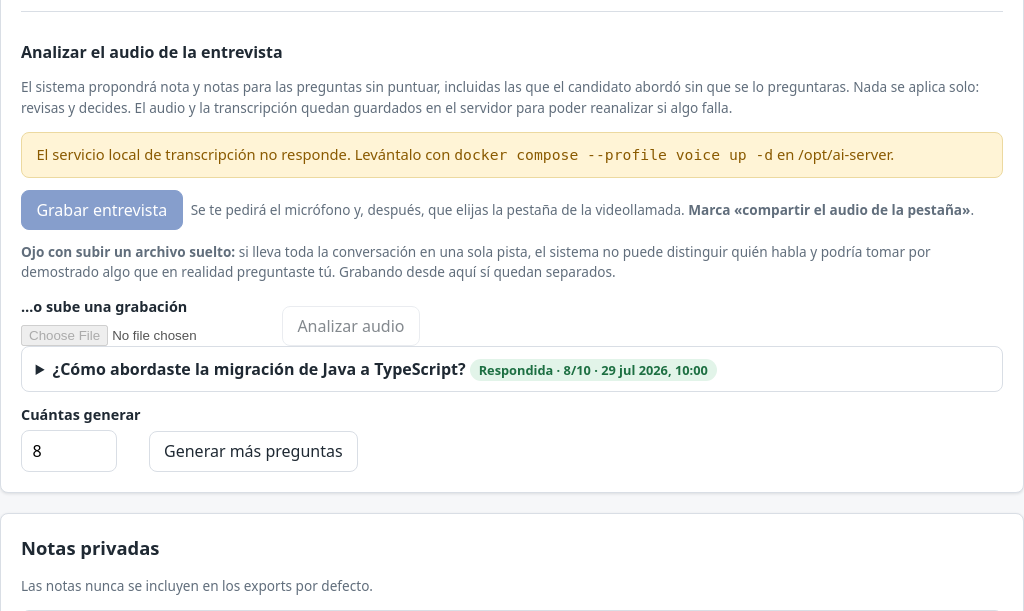
Test case: CandidateDetailPage · entrevista › borrar la nota envía { score: null }
(page scrolled)
Click the heading "¿Cómo abordaste la migración de Java a TypeScript?". click: point(385, 370)
box: [52, 358, 717, 381]
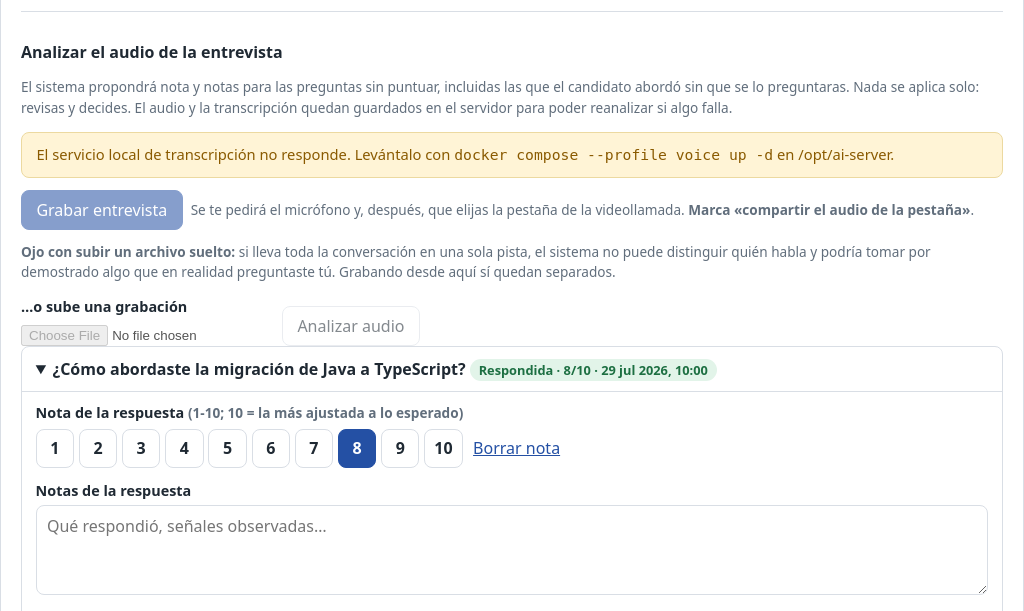
Expected: the text "¿Cómo abordaste la migración de Java a TypeScript?" is shown, [52, 358, 466, 380]
Click the button "Borrar nota". click: point(517, 448)
box: [468, 433, 566, 463]
(page scrolled)
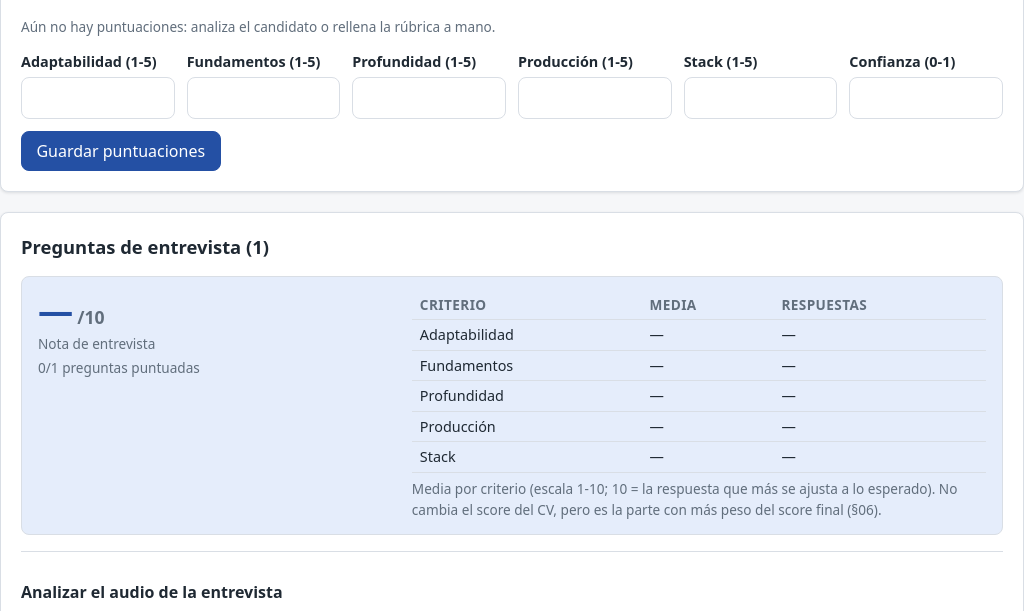
Expected: the text "0/1 preguntas puntuadas" is shown, [38, 358, 200, 377]
